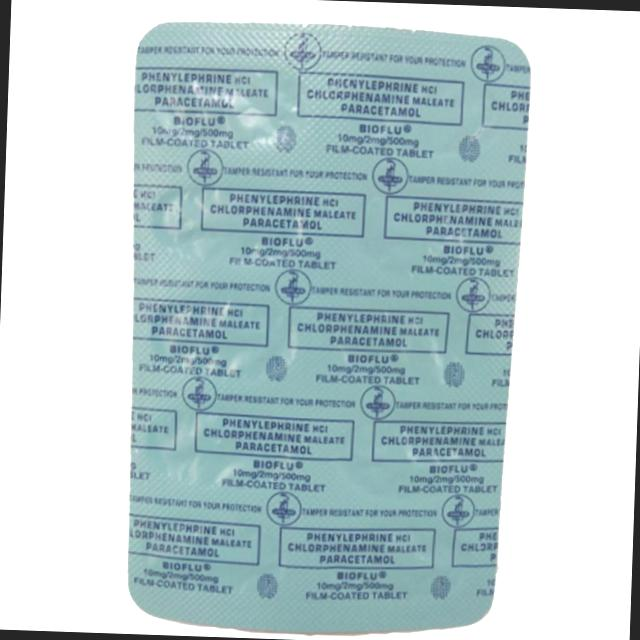blister: (107, 8, 534, 640)
